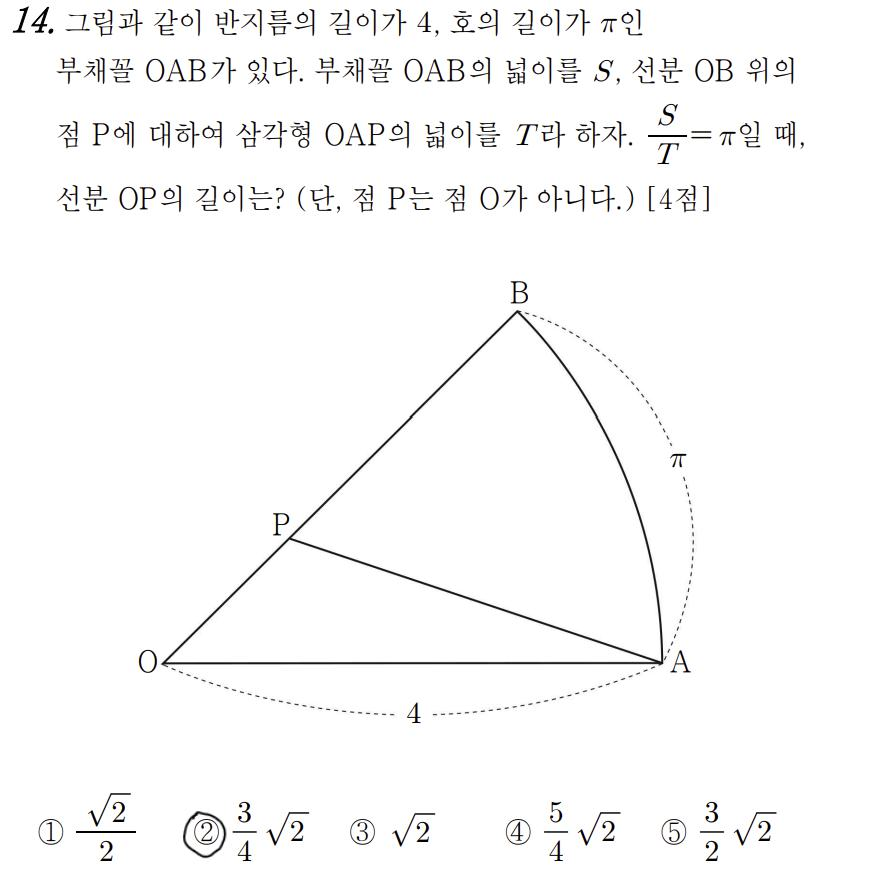1: (181, 809, 230, 863)
paper: (34, 817, 68, 850), (192, 816, 226, 849), (346, 816, 380, 849), (500, 814, 534, 847), (658, 815, 692, 848)
